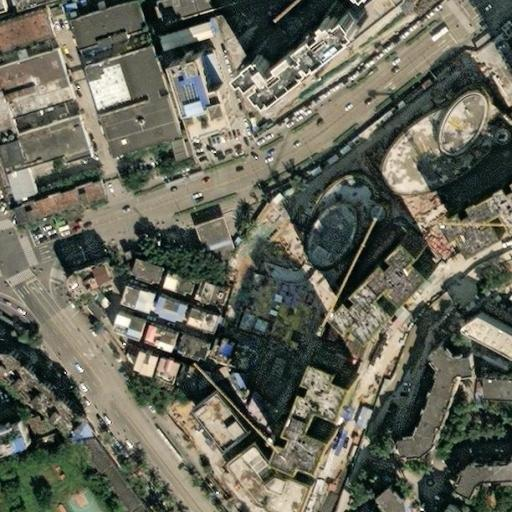building: (299, 85, 498, 265), (332, 232, 430, 331), (384, 358, 473, 461), (274, 353, 351, 459), (229, 447, 313, 512), (0, 118, 87, 179), (442, 178, 512, 245), (86, 51, 164, 111), (101, 101, 175, 161), (164, 54, 224, 128), (8, 185, 100, 230), (68, 5, 144, 53), (191, 388, 246, 447), (454, 460, 512, 498), (93, 464, 136, 512), (64, 261, 108, 306), (0, 16, 50, 53), (241, 283, 273, 337), (159, 26, 213, 52), (190, 218, 226, 255), (4, 172, 37, 208), (0, 421, 31, 455), (215, 287, 240, 327), (76, 440, 106, 473), (372, 485, 405, 512), (142, 329, 174, 355), (192, 283, 222, 310), (152, 301, 184, 326), (162, 274, 192, 300), (482, 377, 512, 401), (132, 354, 157, 381), (177, 340, 204, 364), (153, 361, 177, 386), (131, 263, 157, 286), (225, 350, 248, 372), (184, 312, 208, 333), (121, 290, 140, 311), (134, 295, 152, 315), (170, 367, 184, 389), (114, 347, 129, 366), (108, 253, 126, 266), (197, 369, 213, 383), (110, 326, 127, 339), (224, 372, 235, 391), (127, 323, 143, 336), (124, 331, 140, 343), (115, 319, 129, 331), (219, 340, 229, 355)
